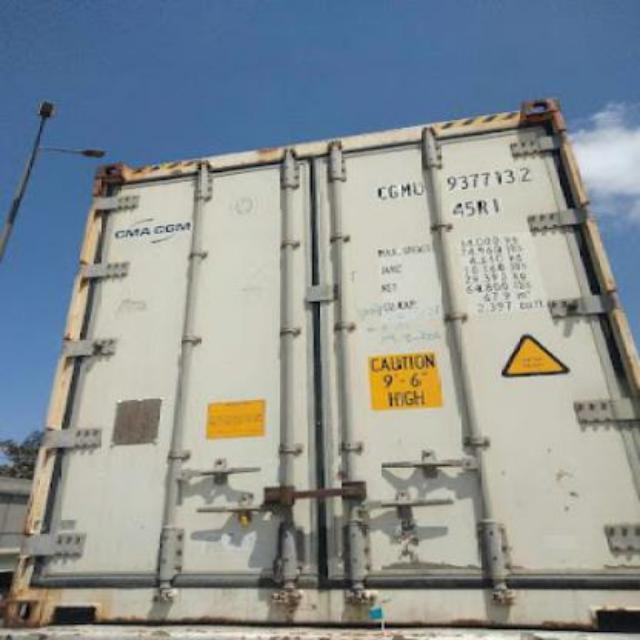1: (492, 167, 504, 185)
2: (516, 162, 536, 182)
3: (452, 168, 468, 192), (502, 166, 516, 182)
7: (478, 166, 492, 190), (468, 167, 480, 190)
9: (440, 169, 456, 195)
C: (374, 180, 388, 204)
G: (384, 178, 398, 202)
M: (396, 175, 412, 202)
U: (411, 174, 424, 196)
